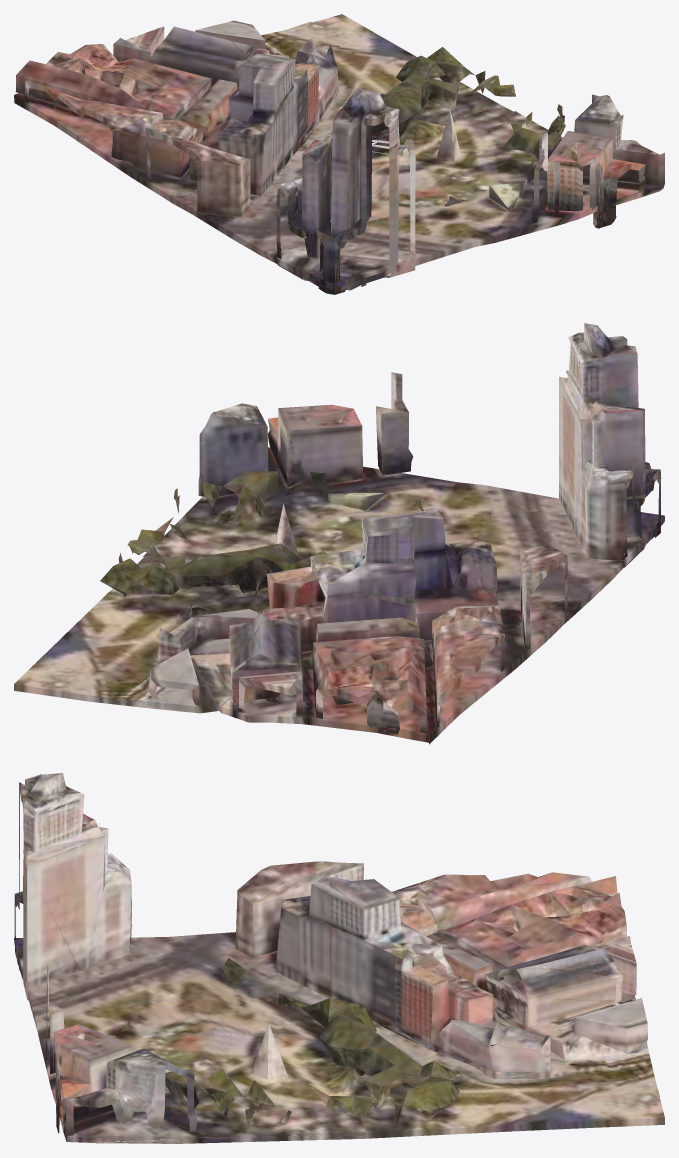
The picture shows the model from 3 angles, top to bottom: view 1: azimuth 30°, elevation 25°; view 2: azimuth 150°, elevation 25°; view 3: azimuth 270°, elevation 25°; orthographic projection. The views are drawn at different scales.
Visible parts, largest first — view 1: Mesh_0; view 2: Mesh_0; view 3: Mesh_0.
Part boxes in pixels (left/top/right/bottom): Mesh_0: left=14, top=14, right=664, bottom=294; Mesh_0: left=14, top=323, right=664, bottom=744; Mesh_0: left=14, top=773, right=664, bottom=1143.
Bounding box in the file's own units: 270 × 124 × 330.
Materials: 2 (2 with a texture image).
